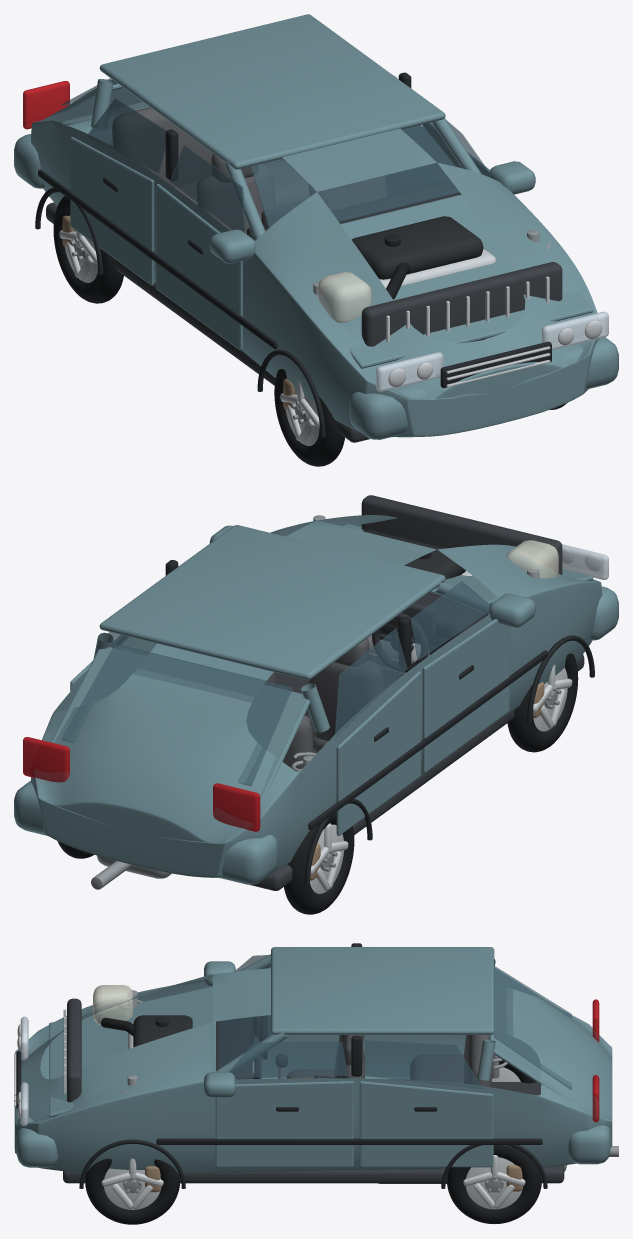
Rendered from car_main.glb.
3 views of the same model, one above another, from view 1: azimuth 30°, elevation 25°; view 2: azimuth 150°, elevation 25°; view 3: azimuth 270°, elevation 25° (orthographic). The views are drawn at different scales.
Parts seen in each view (by area): view 1: body_shell, roof_panel, hood, door_fl, windshield, door_rl, radiator, valve_cover, rear_seat_back, front_bumper, window_fl, window_rl (+24 smaller); view 2: body_shell, roof_panel, door_fl, rear_window, door_rl, trunk_hatch, radiator, window_rl, driver_seat_back, rear_bumper, window_fl, underbody (+20 smaller); view 3: body_shell, roof_panel, door_fr, door_rr, hood, underbody, window_rr, window_fr, tire_rr, tire_fr, side_molding_right, rear_window (+20 smaller).
Boxes of the visible parts, box(x1,y1,x2,y2) form: body_shell: box(31, 80, 599, 437); roof_panel: box(99, 14, 445, 169); hood: box(340, 194, 593, 368); door_fl: box(156, 184, 242, 350); windshield: box(250, 124, 459, 227); door_rl: box(70, 137, 154, 285); radiator: box(361, 262, 562, 346); valve_cover: box(352, 216, 483, 279); rear_seat_back: box(112, 107, 284, 187); front_bumper: box(349, 337, 618, 439); window_fl: box(170, 145, 245, 233); window_rl: box(86, 98, 166, 173); body_shell: box(31, 515, 602, 877); roof_panel: box(99, 525, 445, 680); door_fl: box(422, 619, 509, 772); rear_window: box(61, 644, 292, 785); door_rl: box(336, 671, 420, 835); trunk_hatch: box(50, 647, 310, 804); radiator: box(361, 495, 562, 574); window_rl: box(335, 628, 407, 736); driver_seat_back: box(308, 660, 384, 740); rear_bumper: box(14, 780, 277, 884); window_fl: box(411, 581, 490, 660); underbody: box(249, 654, 584, 890); body_shell: box(14, 968, 612, 1174); roof_panel: box(271, 947, 494, 1034); door_fr: box(215, 1081, 353, 1167); door_rr: box(359, 1081, 493, 1167); hood: box(49, 986, 215, 1117); underbody: box(63, 1082, 564, 1183); window_rr: box(365, 1040, 482, 1088); window_fr: box(230, 1041, 347, 1078); tire_rr: box(447, 1145, 541, 1224); tire_fr: box(85, 1158, 179, 1224); side_molding_right: box(156, 1138, 542, 1144); rear_window: box(494, 966, 571, 1089).
Size of what is drawn, in the model's own units: 2.04 by 1.45 by 4.2.
